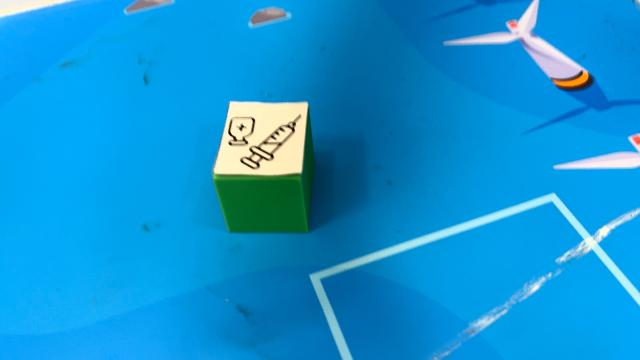syringe: (212, 100, 314, 234)
